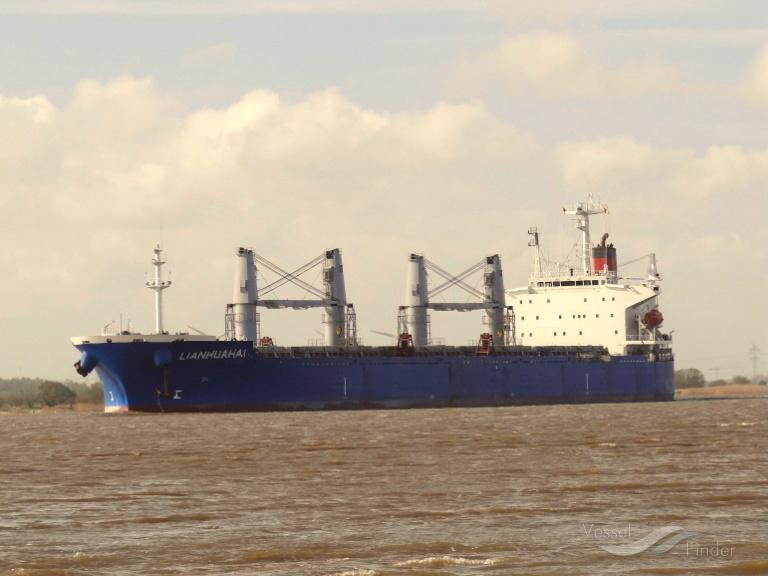OCR: (165, 341, 253, 373)
